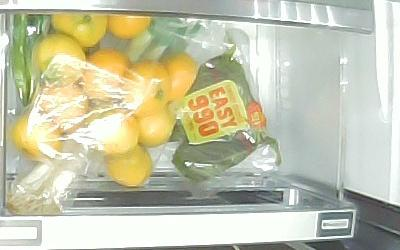tangerine_vinyl: (122, 60, 171, 116), (34, 34, 86, 86), (42, 82, 89, 134), (11, 115, 63, 159), (86, 46, 130, 96), (94, 109, 140, 156), (103, 144, 153, 186), (135, 99, 177, 147), (52, 14, 107, 49), (161, 52, 197, 99), (106, 14, 152, 40)
